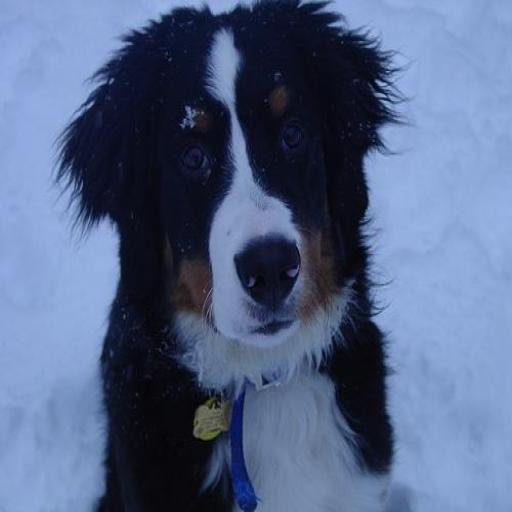dog_face: (76, 14, 378, 324)
